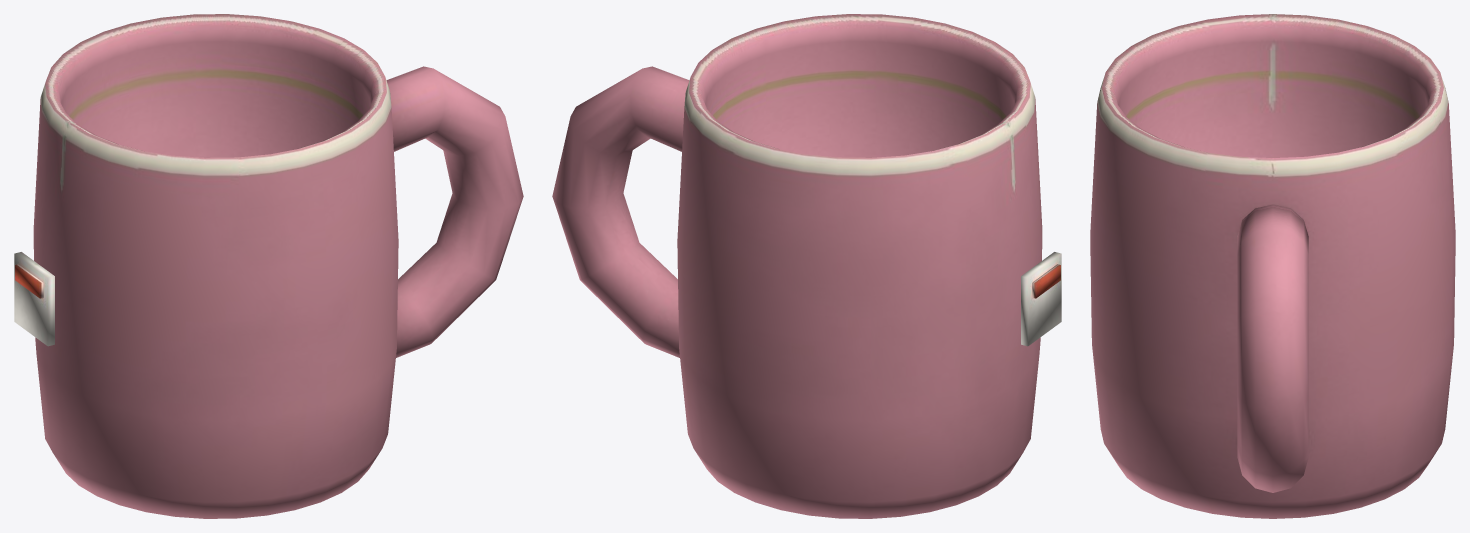
The model's file is mug_milktea_b1.glb.
3 renders of one model, left to right at view 1: azimuth 30°, elevation 25°; view 2: azimuth 150°, elevation 25°; view 3: azimuth 270°, elevation 25°, orthographic.
Visible parts, largest first — view 1: prop_mug_milktea_b1_felt; view 2: prop_mug_milktea_b1_felt; view 3: prop_mug_milktea_b1_felt.
Boxes of the visible parts, bbox=[...] form: prop_mug_milktea_b1_felt: bbox=[14, 14, 523, 518]; prop_mug_milktea_b1_felt: bbox=[552, 14, 1061, 518]; prop_mug_milktea_b1_felt: bbox=[1090, 14, 1455, 518].
Bounding box in the file's own units: 0.2032 × 0.1447 × 0.131.
1 material, 1 textured.
